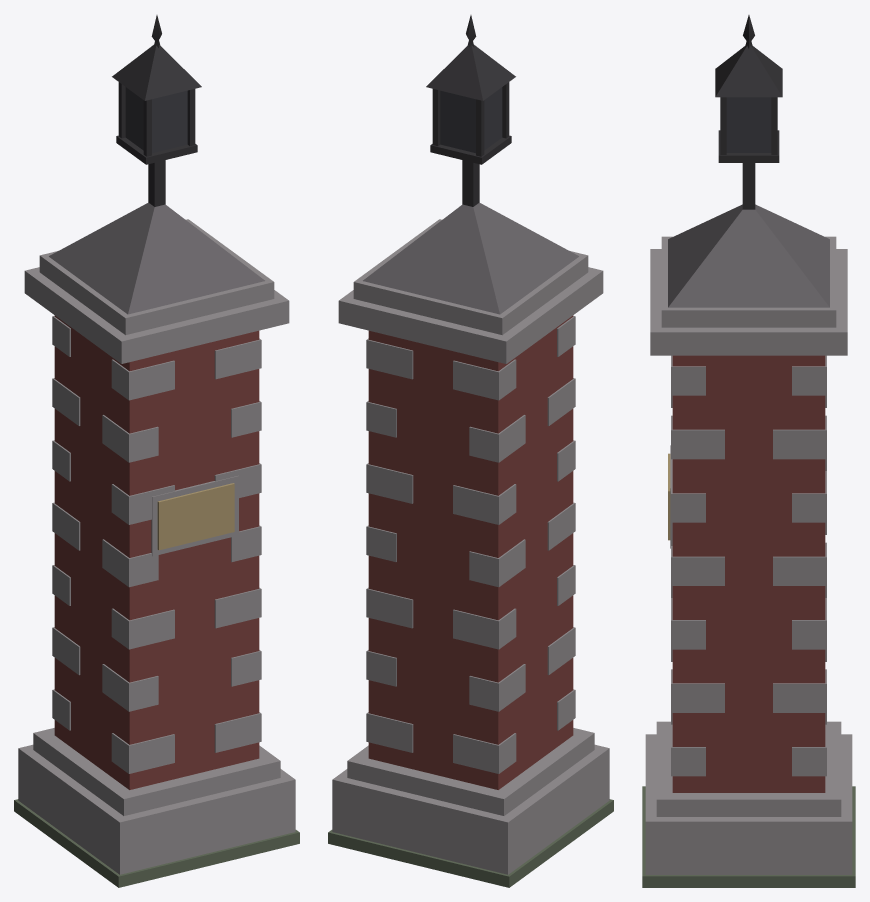
The model's file is gate_pillar.glb.
3 renders of one model, left to right at view 1: azimuth 30°, elevation 25°; view 2: azimuth 150°, elevation 25°; view 3: azimuth 270°, elevation 25°, orthographic.
Visible parts, largest first — view 1: GatePillar; view 2: GatePillar; view 3: GatePillar.
Boxes of the visible parts, <box> form: GatePillar: <box>14,15,299,887</box>; GatePillar: <box>328,15,613,887</box>; GatePillar: <box>642,15,855,887</box>.
Bounding box in the file's own units: 1.34 × 5.75 × 1.34.
